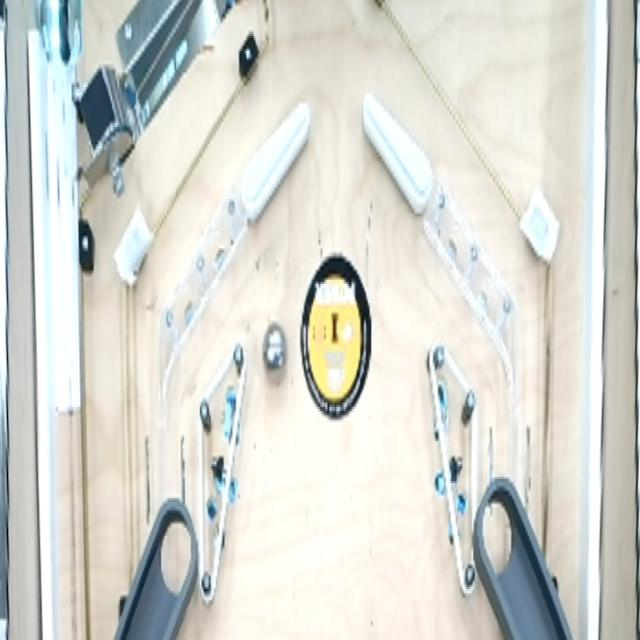ball: (261, 320, 288, 387)
flipper-left: (360, 82, 439, 226)
flipper-right: (238, 89, 314, 231)
